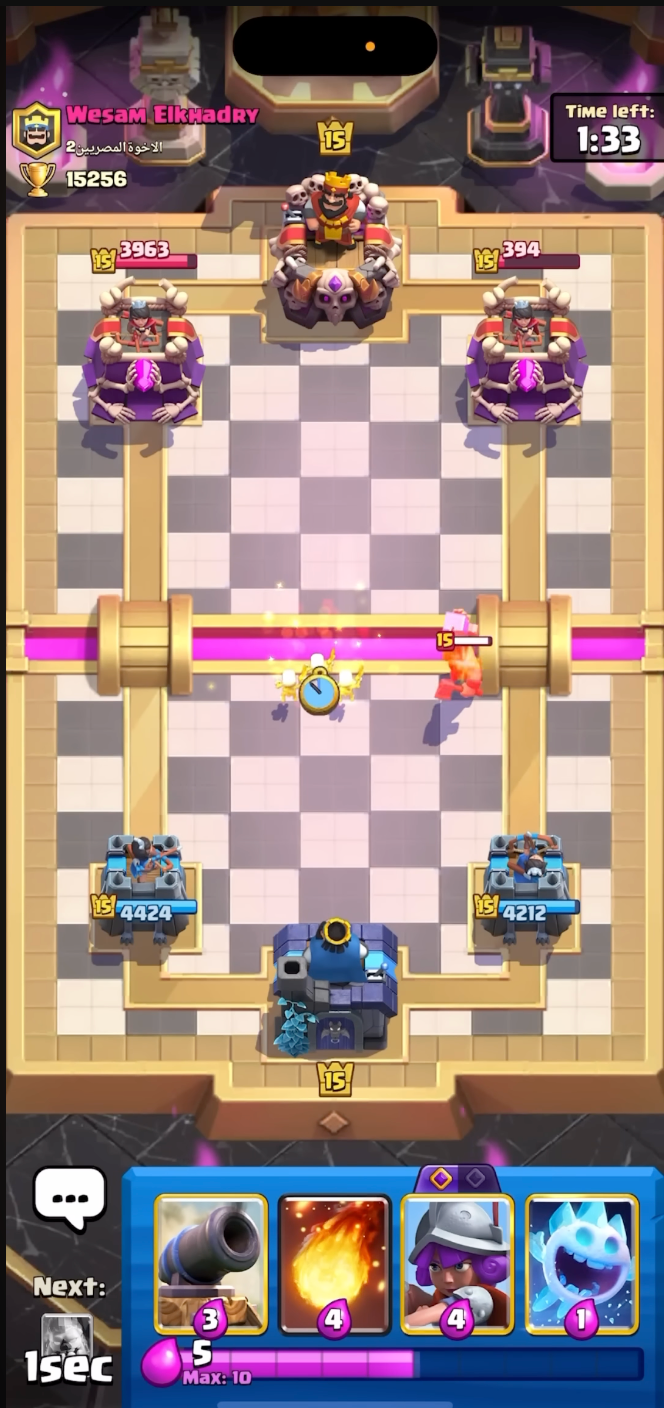lumberjack: (423, 601, 491, 698)
